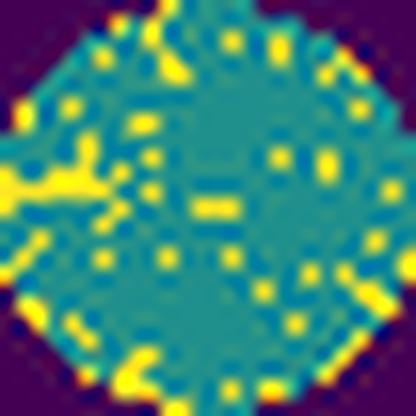Scratch: (0, 126, 134, 237)
